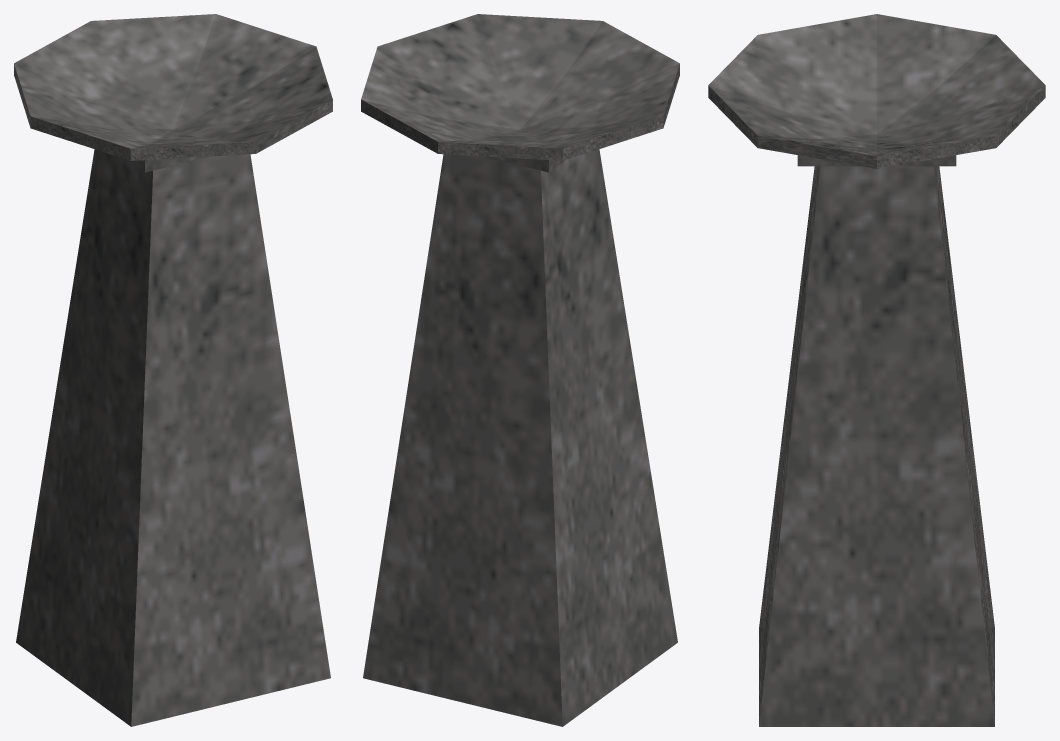
File: SM_Dungeon_Brazier.fbx
3 views of the same model, side by side, from view 1: azimuth 30°, elevation 25°; view 2: azimuth 150°, elevation 25°; view 3: azimuth 270°, elevation 25° (orthographic). The views are drawn at different scales.
Parts seen in each view (by area): view 1: SM_Dungeon_Brazier; view 2: SM_Dungeon_Brazier; view 3: SM_Dungeon_Brazier.
Part boxes in pixels (<box>): SM_Dungeon_Brazier: <box>14,14,332,726</box>; SM_Dungeon_Brazier: <box>361,14,679,726</box>; SM_Dungeon_Brazier: <box>708,14,1045,726</box>.
Size of the model in its own units: 47.4 by 91.72 by 47.4.
